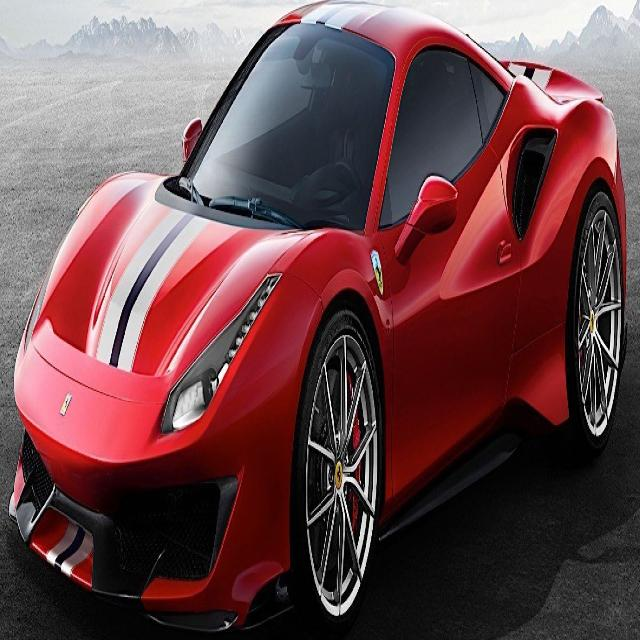red: (16, 18, 624, 632)
